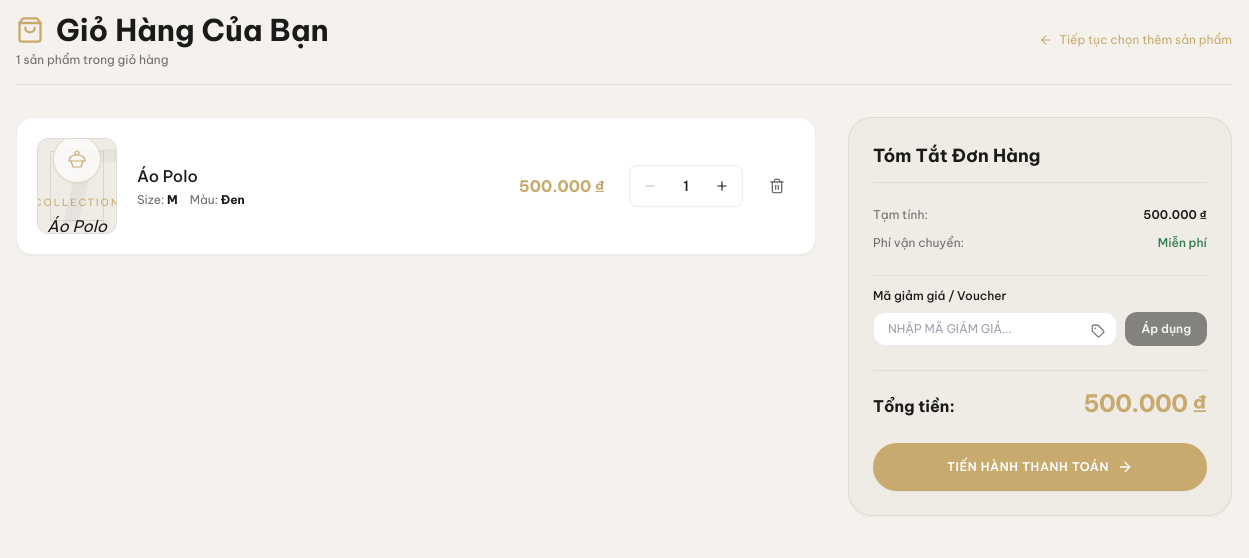
Test case: Redesign UI & Business Rule Flow Tests › 3. Áp dụng mã giảm giá không hợp lệ hiển thị thông báo lỗi rõ ràng
In the field with placeholder "Nhập mã giảm giá...": (995, 329) [873,312,1117,346], type "EXPIRED20"
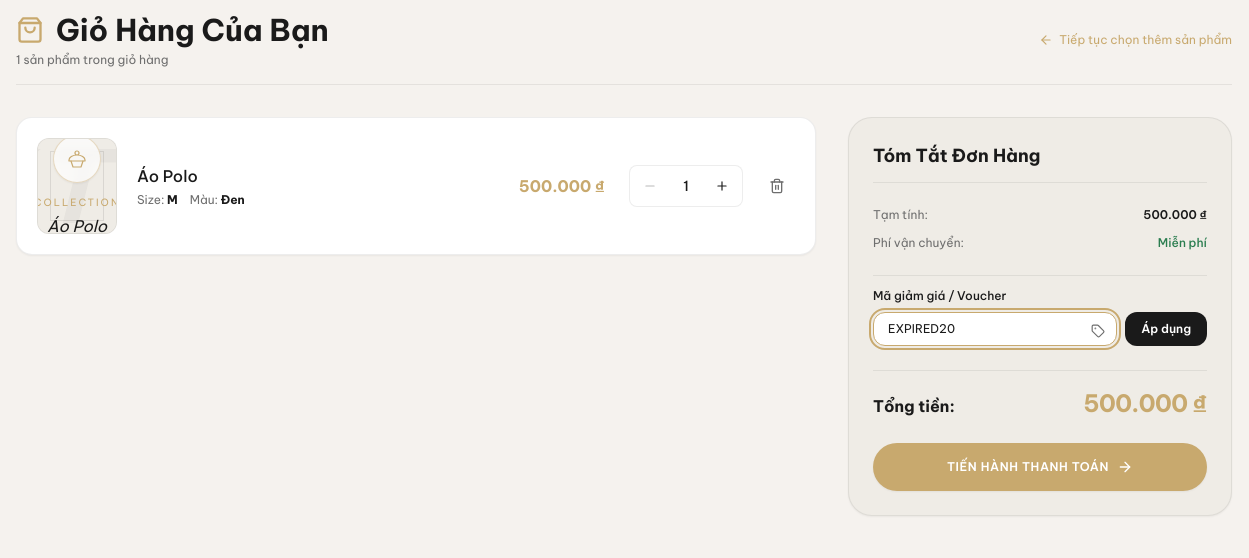
Click the button "Áp dụng": (1166, 329) [1125,312,1207,346]
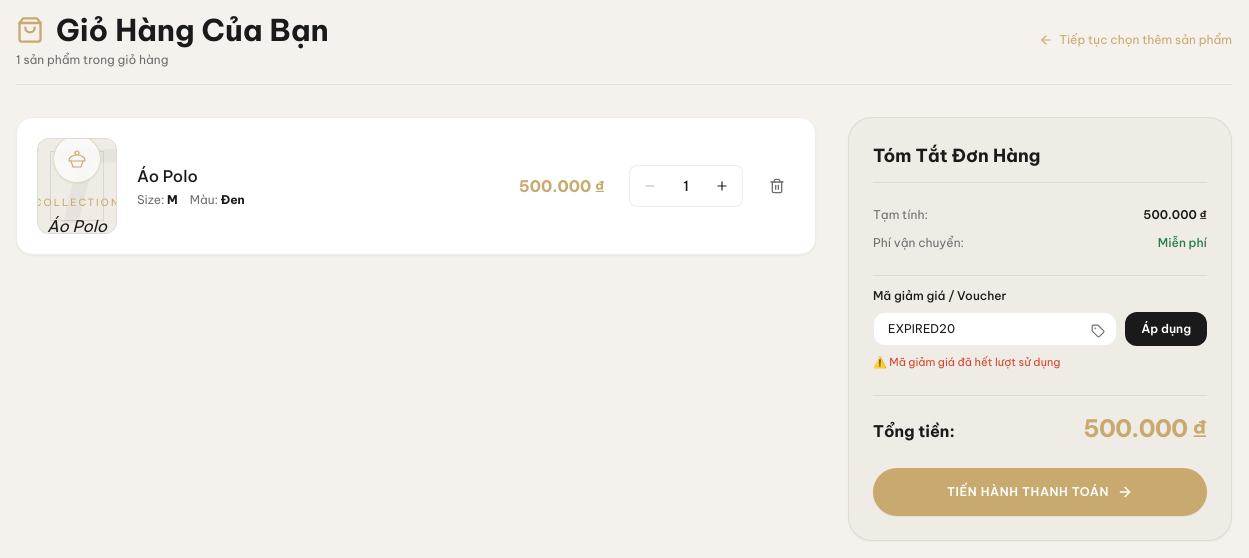
Expected: the text "⚠️ Mã giảm giá đã hết lượt sử dụng" is shown, [873,355,1060,369]
